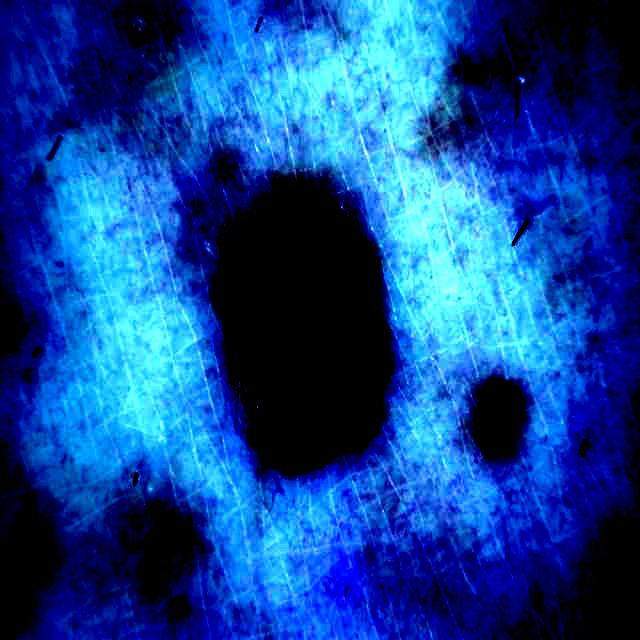NV: (218, 182, 393, 471)
